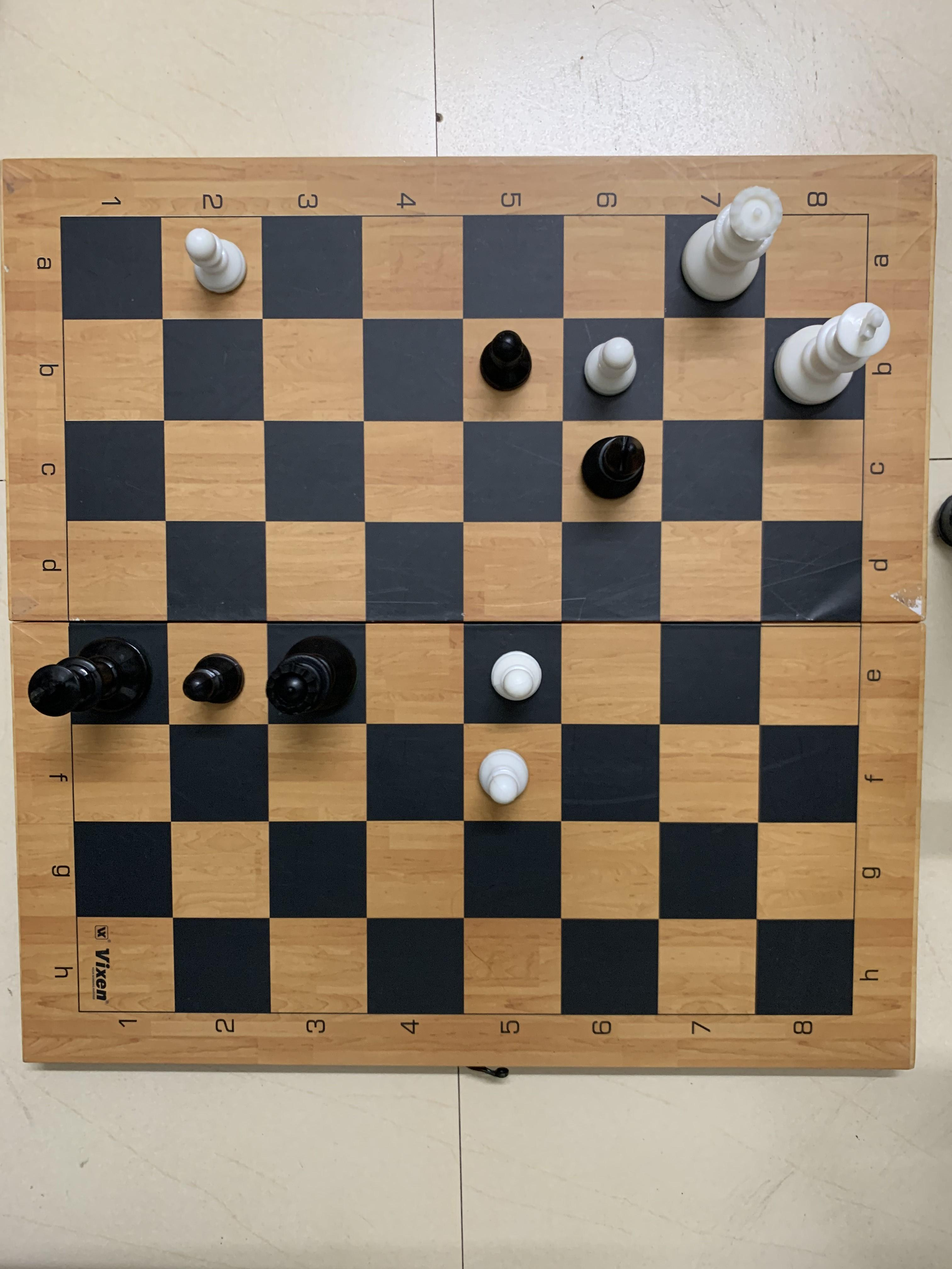black_bishop: (567, 420, 660, 518)
black_king: (25, 622, 145, 732)
black_pawn: (469, 317, 556, 416), (175, 622, 258, 715)
black_queen: (260, 620, 367, 727)
white_king: (768, 285, 904, 410)
white_pawn: (464, 726, 553, 834), (568, 320, 660, 421), (162, 217, 252, 308), (475, 631, 555, 721)
white_queen: (667, 184, 796, 309)
